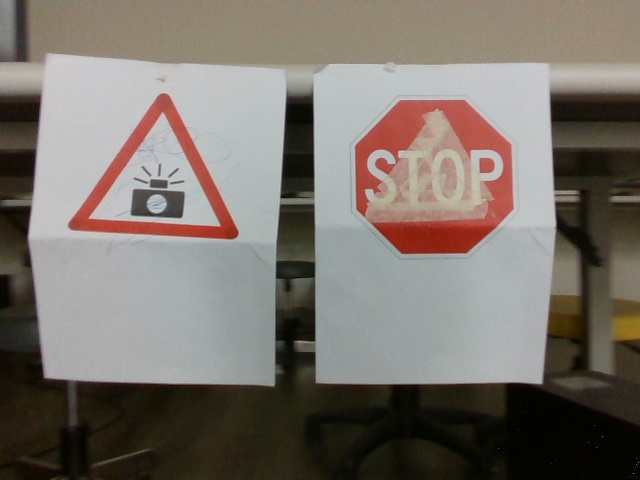camera: (78, 96, 236, 238)
stop: (351, 99, 520, 262)
